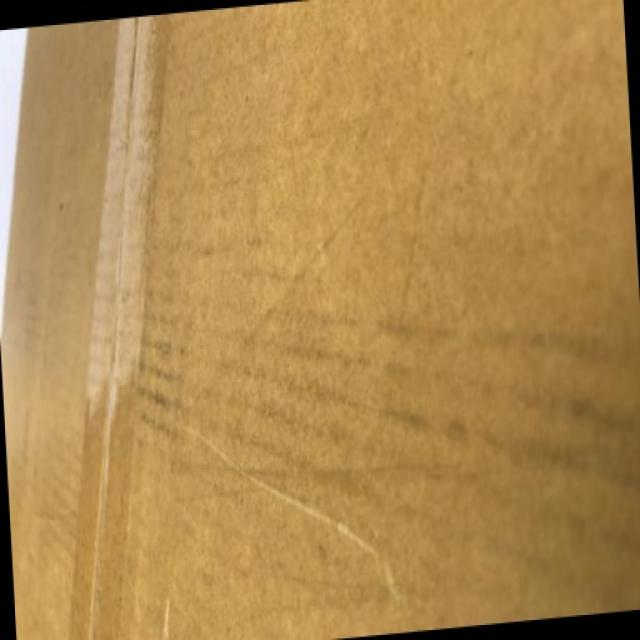carton: (34, 56, 469, 523)
